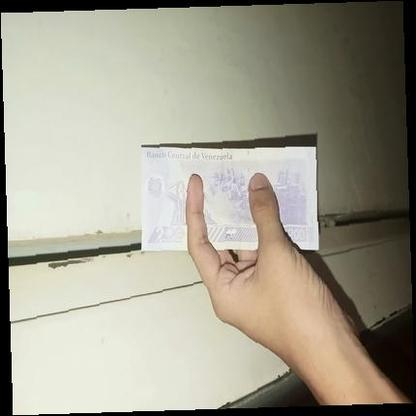two_hundred-back-vef: (139, 146, 319, 252)
